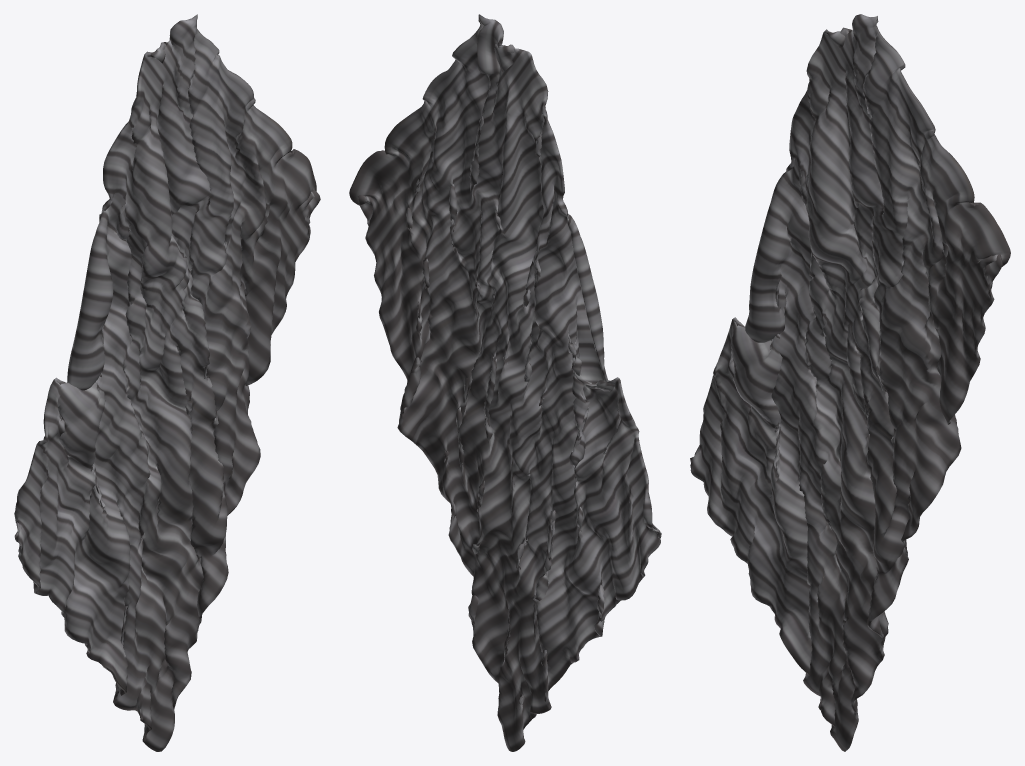
File: Assets.fbx_Handtuch.fbx
The picture shows the model from 3 angles, left to right: view 1: azimuth 30°, elevation 25°; view 2: azimuth 150°, elevation 25°; view 3: azimuth 330°, elevation 25°; orthographic projection. The views are drawn at different scales.
Visible parts, largest first — view 1: Plane; view 2: Plane; view 3: Plane.
Part boxes in pixels (<box>): Plane: <box>14,14,320,751</box>; Plane: <box>349,14,661,751</box>; Plane: <box>690,14,1010,751</box>.
Size of the model in its own units: 22.72 by 51.54 by 3.91.
